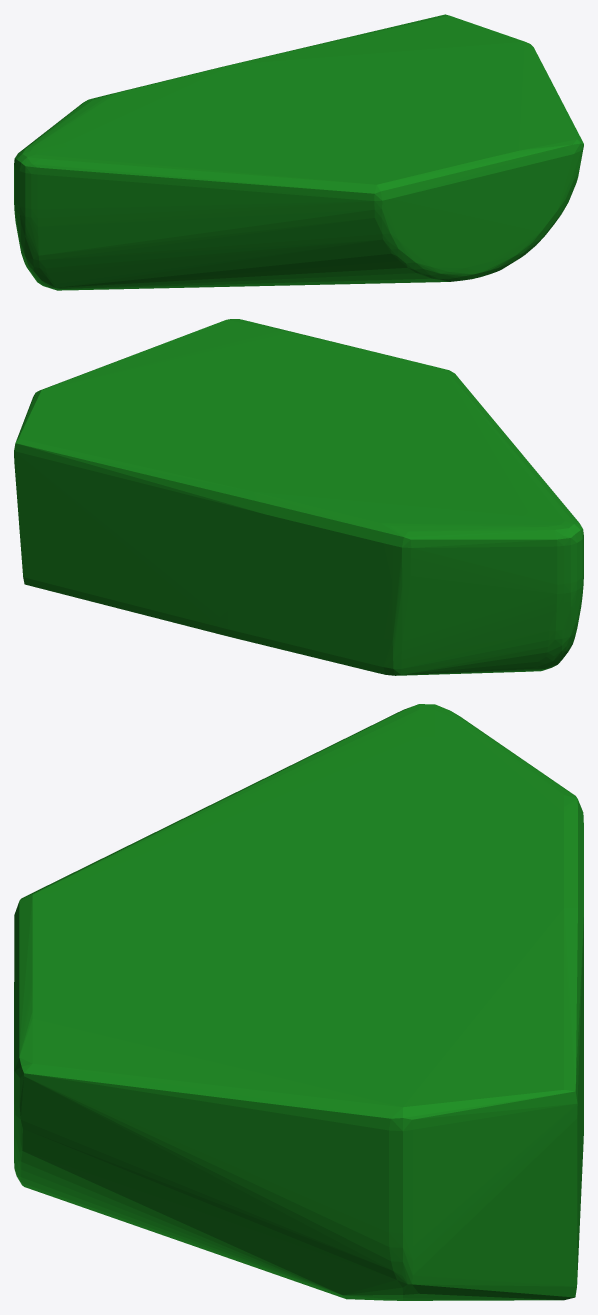
3 views of the same model, one above another, from view 1: azimuth 30°, elevation 25°; view 2: azimuth 150°, elevation 25°; view 3: azimuth 270°, elevation 25° (orthographic). The views are drawn at different scales.
Bounding box in the file's own units: 0.2492 × 0.0651 × 0.1451.
